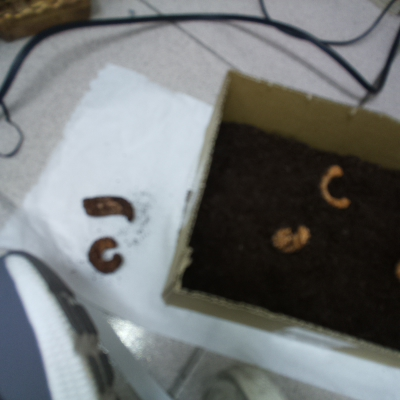eggs: (314, 160, 354, 214), (265, 216, 313, 255)
